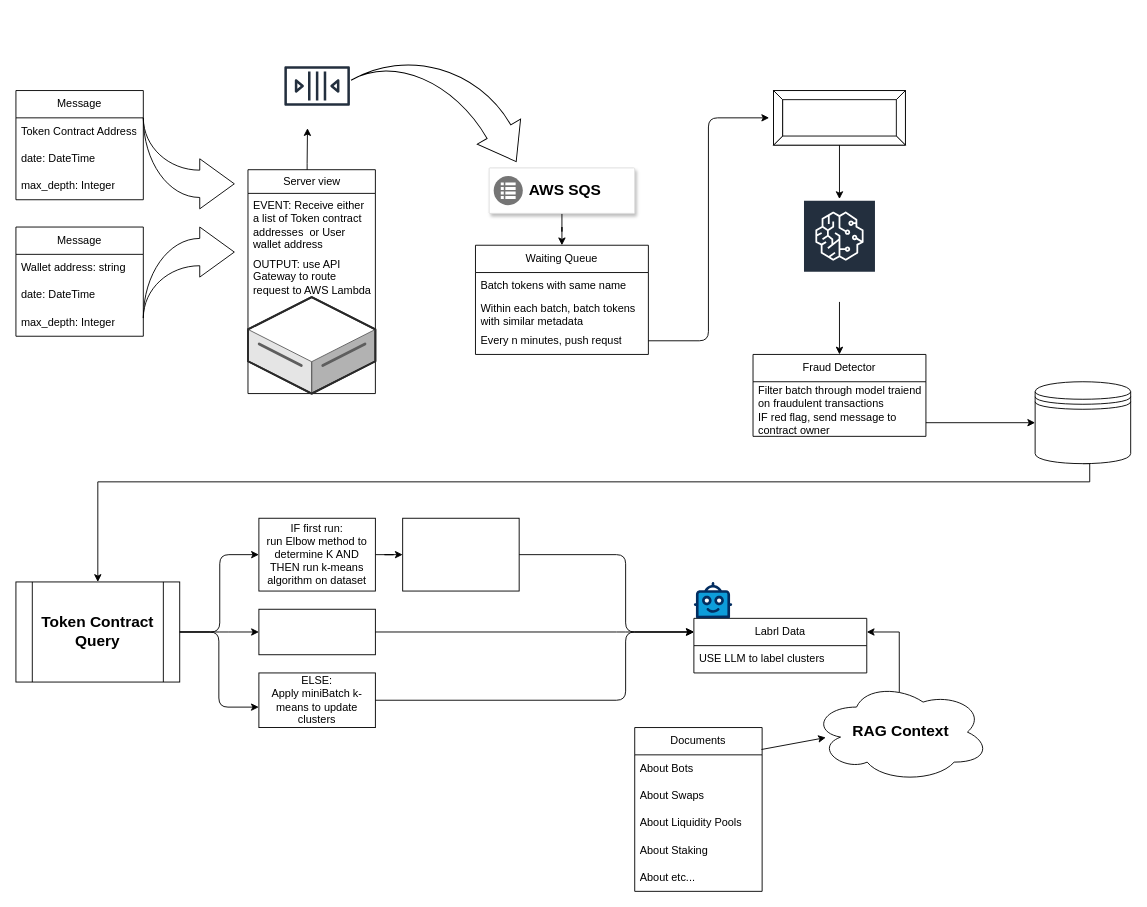
Image size: 1147x907. Some labels were removed from this diagram. The centre of each missing label's shape, as x and y in pixels:
AWS Lambda: point (839, 117)
AWS SageMaker: point (839, 250)
Celery Task Dsitribution: point (316, 85)
Graph DB: point (1082, 422)
IF n days has passed: run silhouette method: point (316, 631)
WAIT UNTIL: dataset has k * 10 datapoints: point (460, 554)
